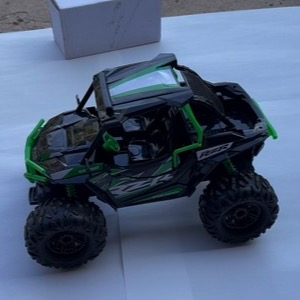polaris: (22, 52, 282, 272)
